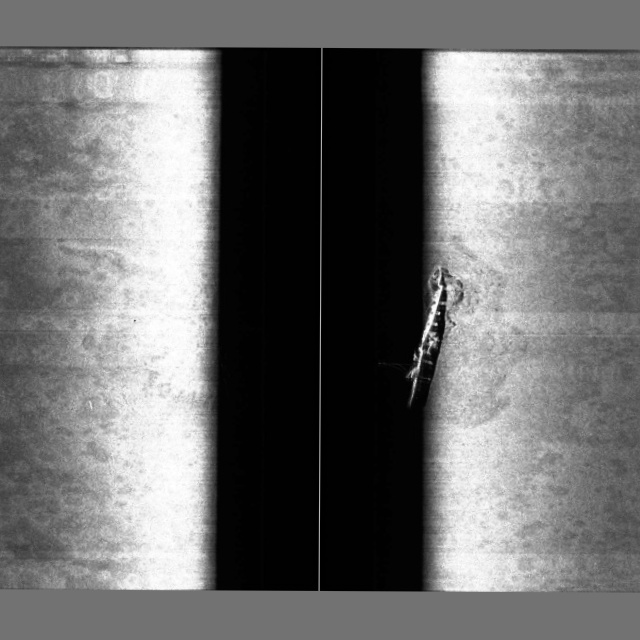Shipwreck: (377, 270, 446, 408)
